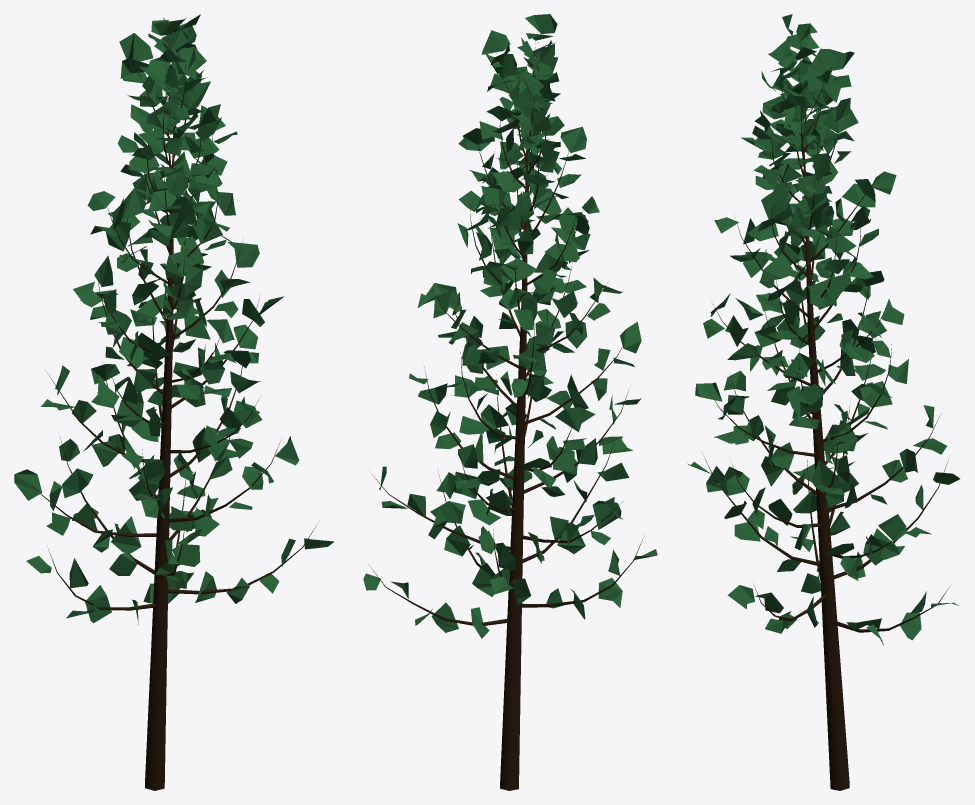
File: tree.dae
3 renders of one model, left to right at view 1: azimuth 30°, elevation 25°; view 2: azimuth 150°, elevation 25°; view 3: azimuth 270°, elevation 25°, orthographic. The views are drawn at different scales.
Parts seen in each view (by area): view 1: leaves, tree-col; view 2: leaves, tree-col; view 3: leaves, tree-col.
Boxes of the visible parts, x1=… form: leaves: x1=14, y1=14, x2=333, y2=624; tree-col: x1=26, y1=23, x2=317, y2=790; leaves: x1=363, y1=14, x2=657, y2=638; tree-col: x1=368, y1=42, x2=644, y2=790; leaves: x1=687, y1=14, x2=959, y2=645; tree-col: x1=701, y1=34, x2=950, y2=790.
Size of the model in its own units: 2.93 by 2.72 by 8.35.
